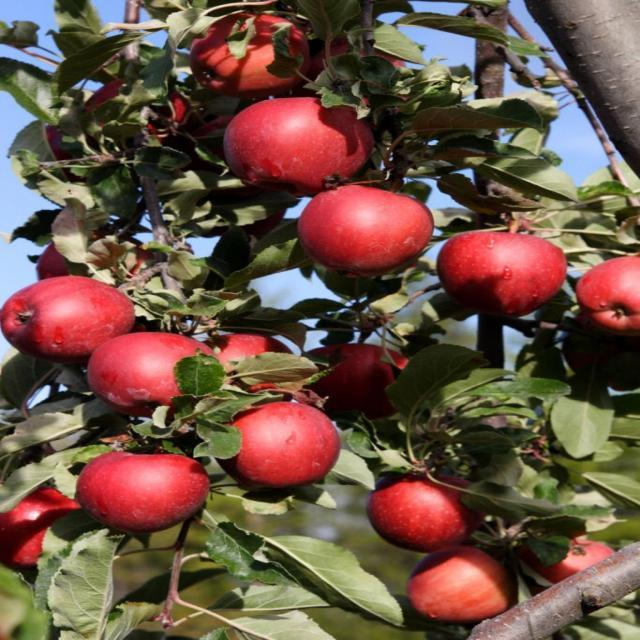Red Apple: (223, 98, 375, 186), (298, 184, 433, 268), (209, 405, 339, 490), (89, 443, 213, 528), (438, 231, 567, 308), (408, 548, 526, 626), (2, 279, 129, 351), (96, 331, 212, 407), (192, 327, 300, 405), (379, 472, 487, 549), (1, 488, 104, 568), (194, 16, 308, 87), (307, 343, 419, 410), (87, 84, 189, 137), (578, 252, 640, 330), (540, 537, 626, 587)
